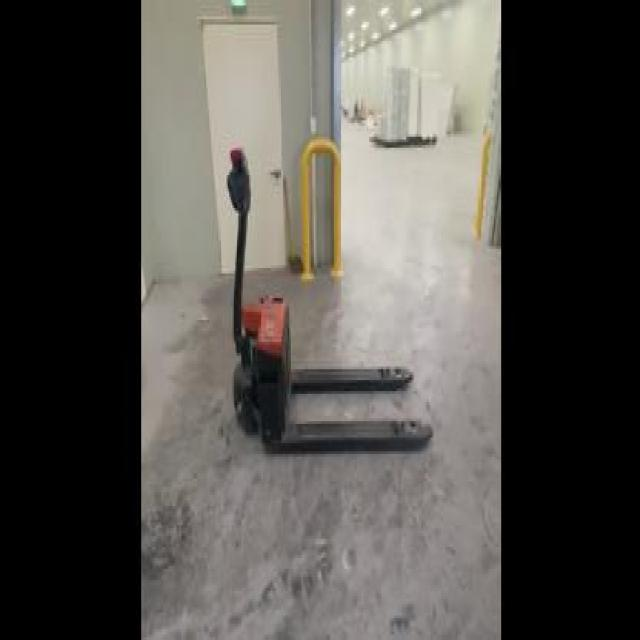robot: (223, 148, 431, 473)
